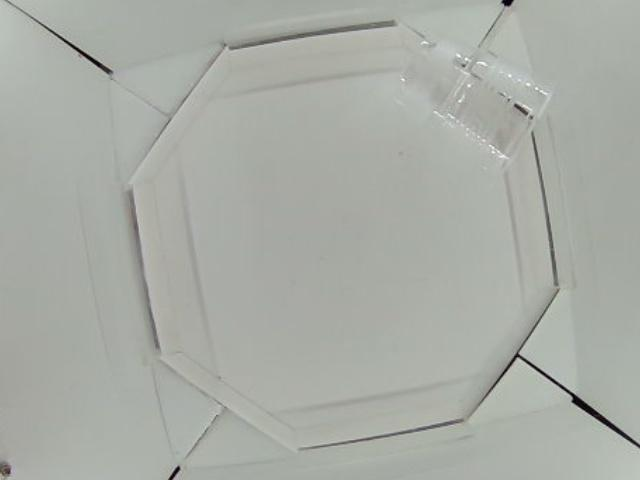Cup: (400, 35, 556, 156)
